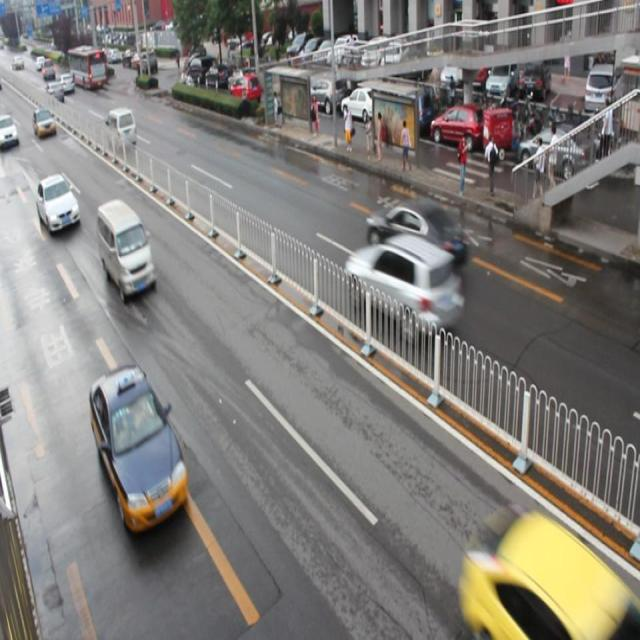car: (462, 506, 640, 640), (90, 362, 187, 533), (345, 230, 462, 340), (366, 195, 462, 268), (36, 172, 81, 233)
truck: (97, 196, 155, 302), (105, 108, 137, 152)
